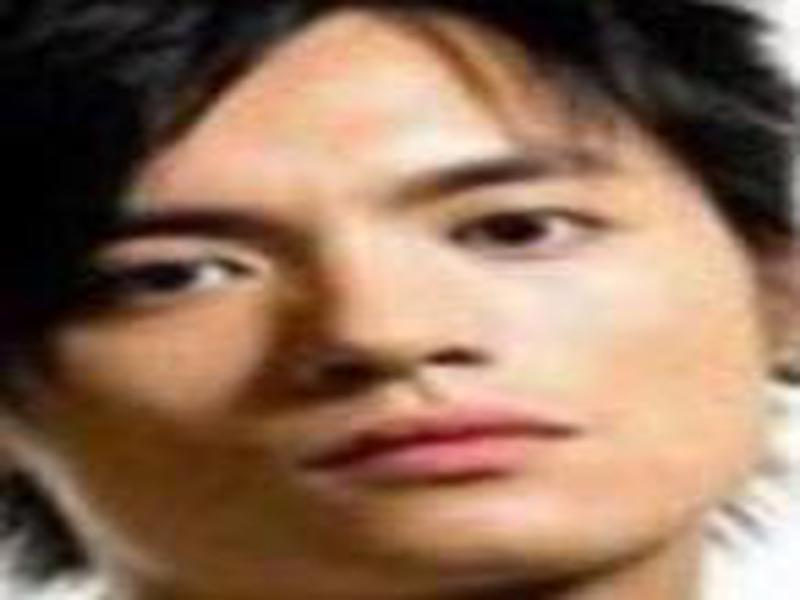without_mask: (25, 29, 755, 582)
